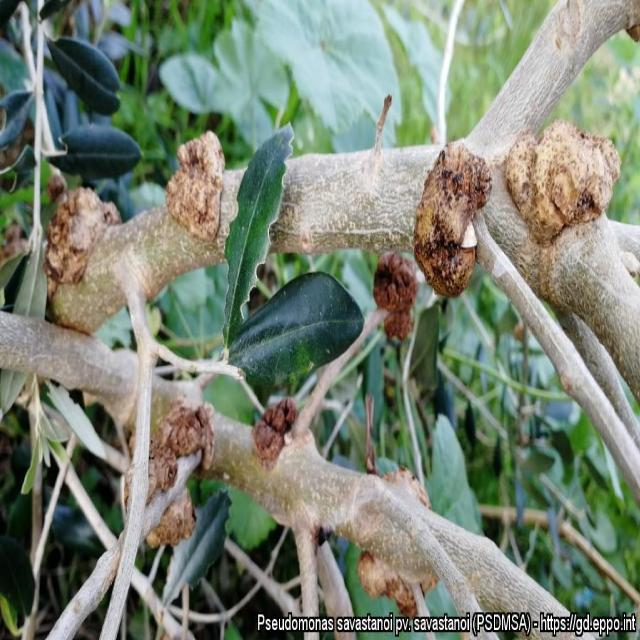Tuberculosis: (504, 121, 621, 245), (413, 143, 492, 296), (43, 175, 121, 304), (147, 402, 215, 504), (166, 131, 224, 242), (358, 551, 422, 616), (373, 252, 418, 342), (252, 398, 298, 468), (146, 488, 196, 550)
